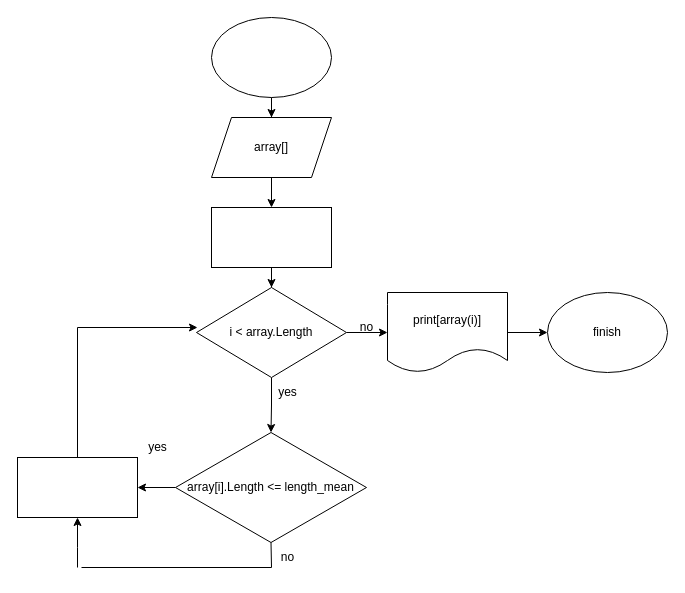
This 685x593 diagram has some shape labels left out. Here are the shapes that lost their labels. From the top down, the centre of each, then its label:
the point at 271,57: Start
the point at 271,237: length_mean = 3 i = 0
the point at 77,487: i = i + 1
